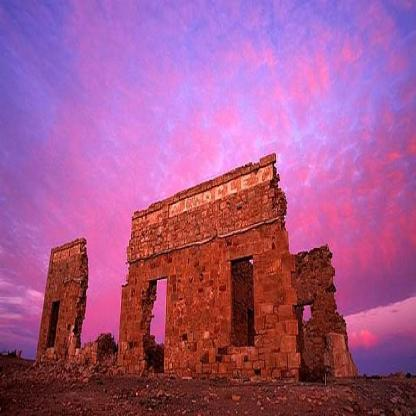other: (125, 174, 285, 239)
